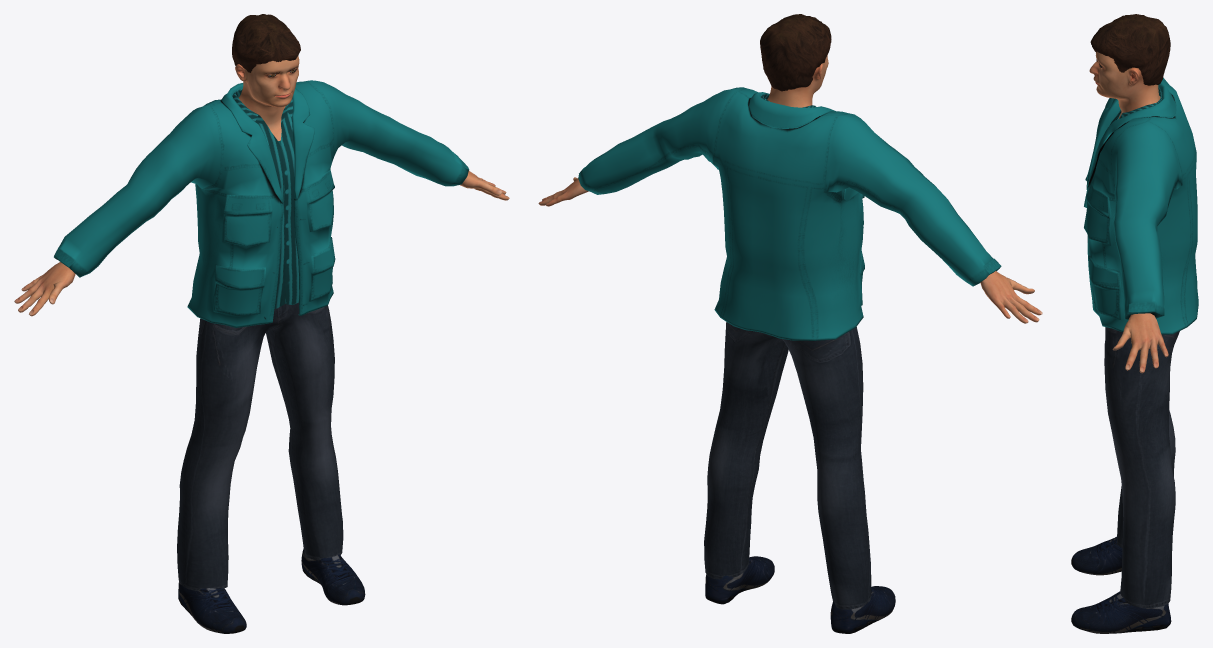
Rendered from testcourier_source.fbx.
The picture shows the model from 3 angles, left to right: view 1: azimuth 30°, elevation 25°; view 2: azimuth 150°, elevation 25°; view 3: azimuth 270°, elevation 25°; orthographic projection.
Visible parts, largest first — view 1: testcourier_source; view 2: testcourier_source; view 3: testcourier_source.
Part boxes in pixels (x1,y1,x2,y2): testcourier_source: [14, 14, 509, 633]; testcourier_source: [538, 14, 1042, 633]; testcourier_source: [1071, 14, 1198, 633].
Bounding box in the file's own units: 1.61 × 1.83 × 0.3656.
10 materials, 10 textured.
